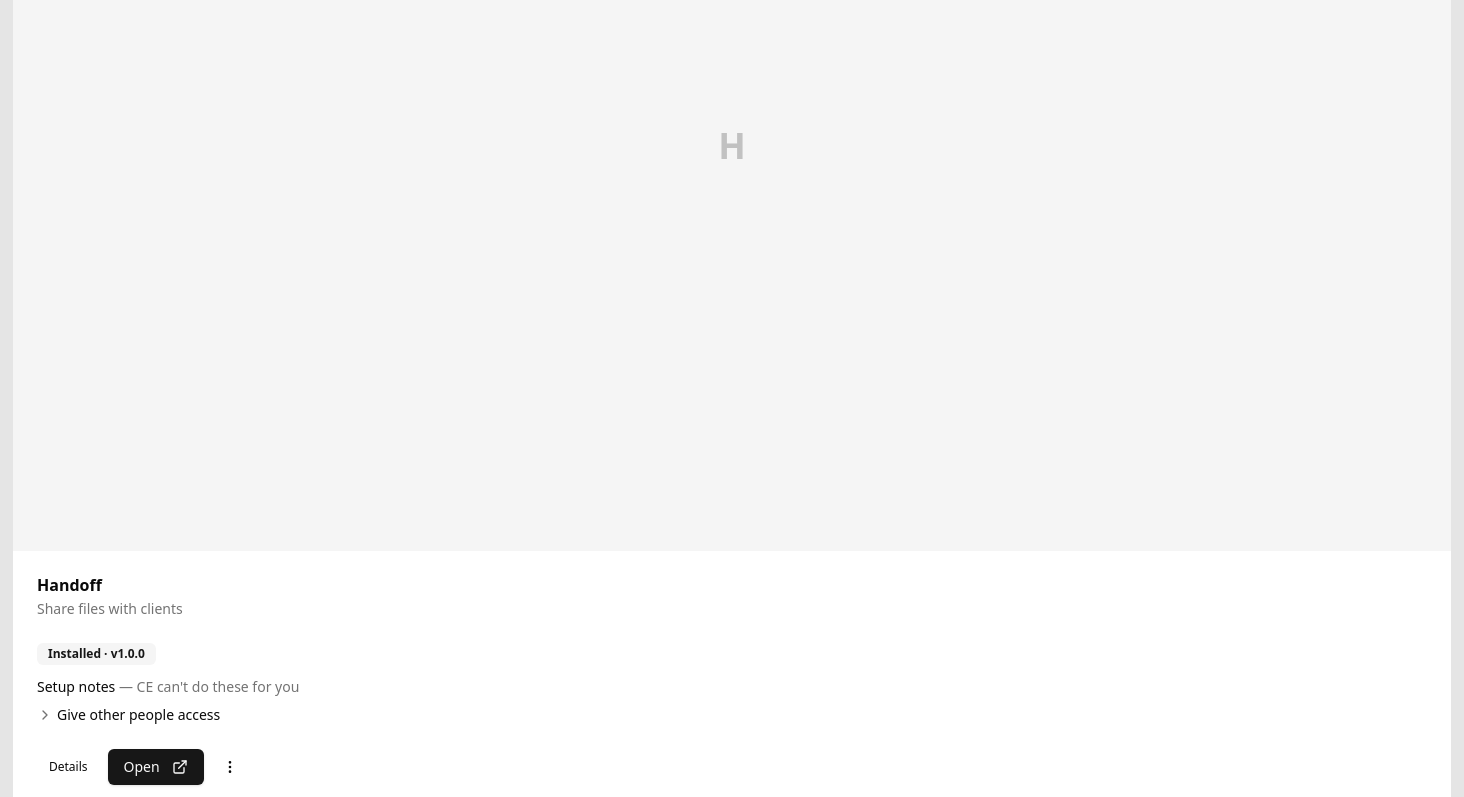
Test: AppCard › setup notes › expands the body in place
The image size is (1464, 797).
(page scrolled)
Click the button "Give other people access" at (139, 714), box x1=37 y1=705 x2=1427 y2=725
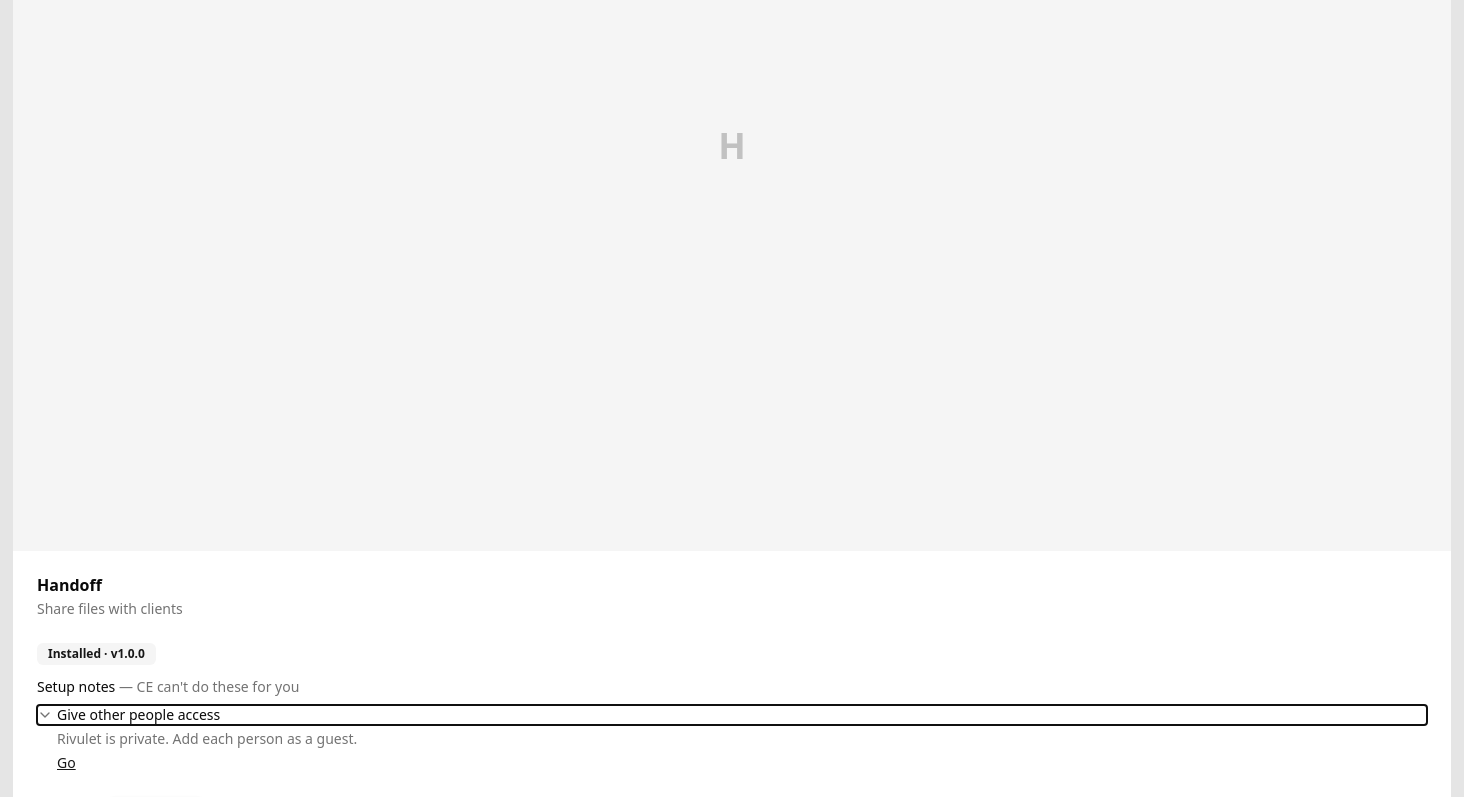
Now the text "Rivulet is private. Add each person as a guest." is shown, box x1=57 y1=729 x2=357 y2=748
